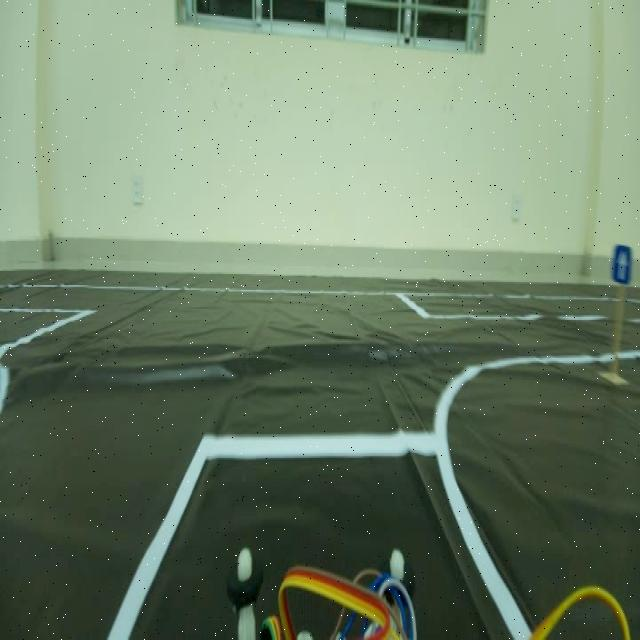onewayroad: (610, 234, 634, 288)
